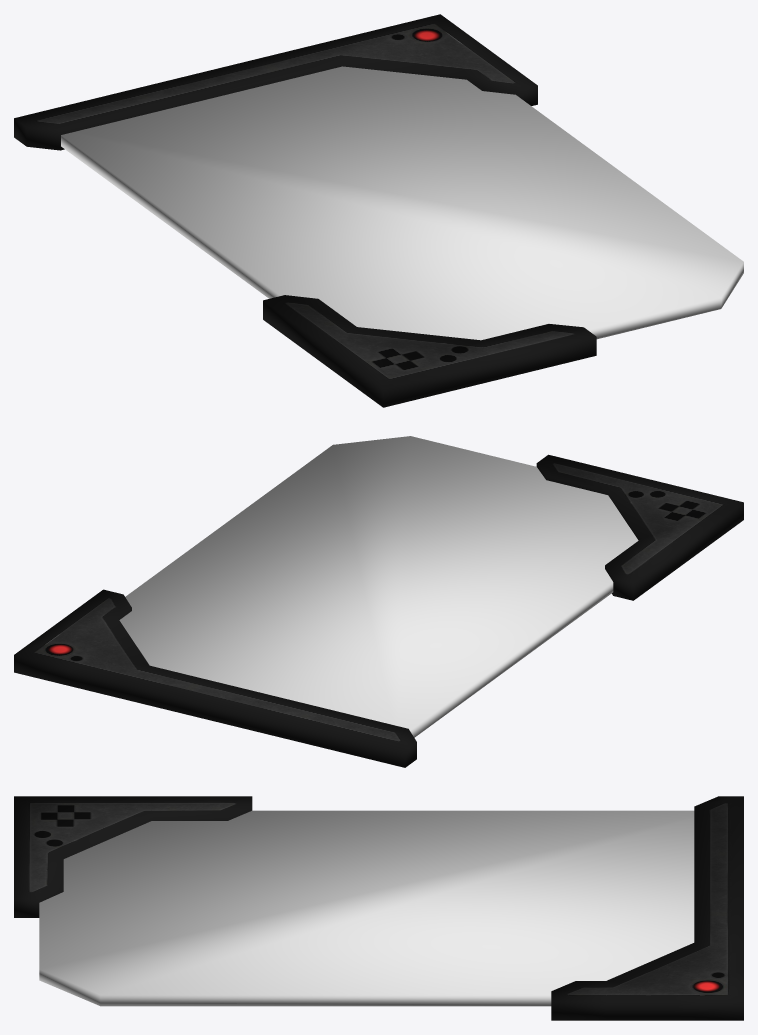
File: tablet.fbx
3 renders of one model, top to bottom at view 1: azimuth 30°, elevation 25°; view 2: azimuth 150°, elevation 25°; view 3: azimuth 270°, elevation 25°, orthographic. The views are drawn at different scales.
Visible parts, largest first — view 1: Tablet_Low, Tablet_Low.002; view 2: Tablet_Low, Tablet_Low.002; view 3: Tablet_Low, Tablet_Low.002.
Part boxes in pixels (x1,y1,x2,y2): Tablet_Low: (61, 66, 743, 340); Tablet_Low.002: (14, 14, 596, 407); Tablet_Low: (119, 436, 638, 737); Tablet_Low.002: (14, 454, 743, 767); Tablet_Low: (39, 810, 694, 1006); Tablet_Low.002: (14, 796, 743, 1020).
Size of the model in its own units: 133 by 5.72 by 200.
Materials: 3 (1 with a texture image).
